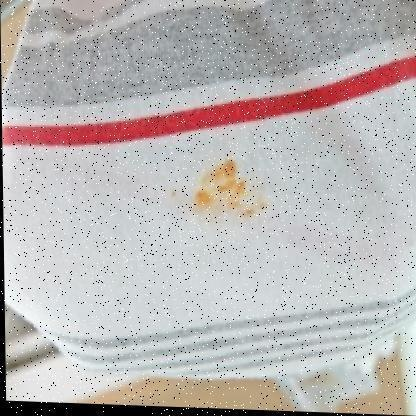kimchi: (191, 164, 272, 223)
